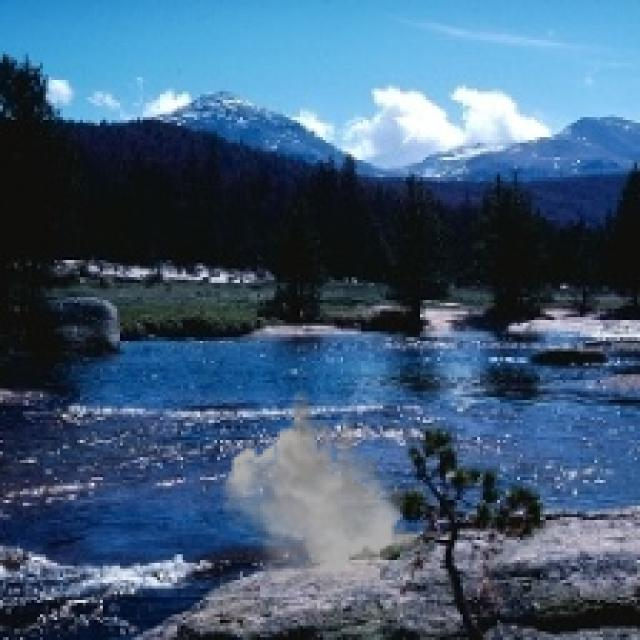smoke: (220, 386, 431, 603)
